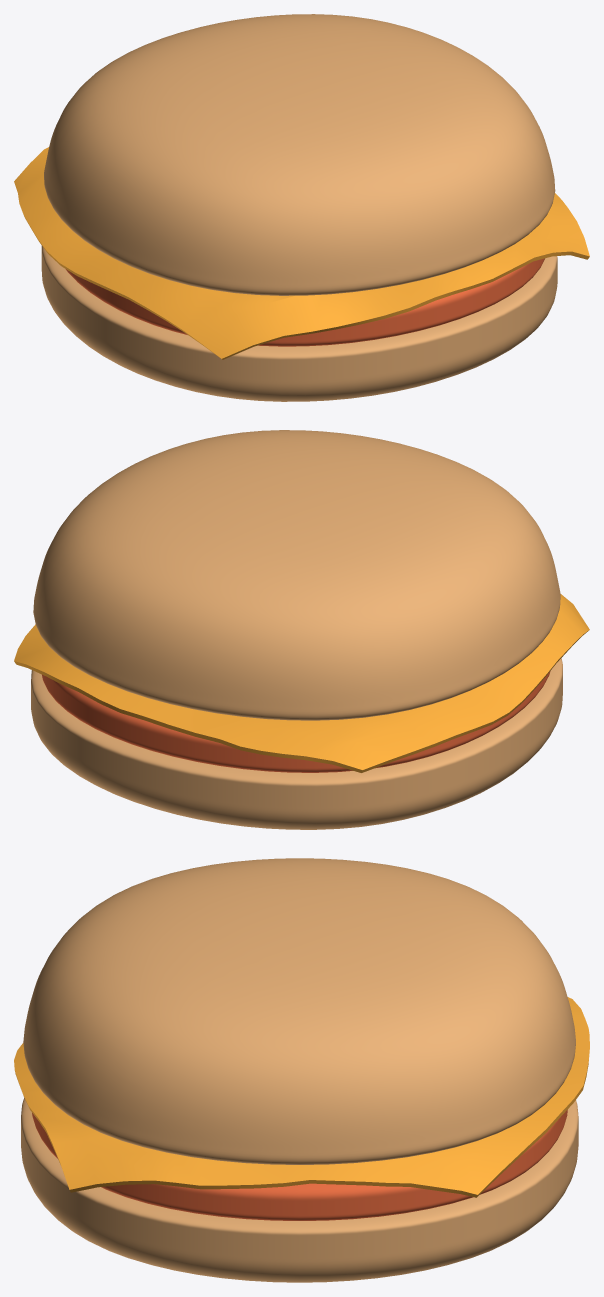
The model's file is hamburger.glb.
3 views of the same model, one above another, from view 1: azimuth 30°, elevation 25°; view 2: azimuth 150°, elevation 25°; view 3: azimuth 270°, elevation 25° (orthographic). The views are drawn at different scales.
Parts seen in each view (by area): view 1: Cube.002, Cube, Plane, Cube.001; view 2: Cube.002, Cube, Plane, Cube.001; view 3: Cube.002, Cube, Plane, Cube.001.
Part boxes in pixels (x1,y1,x2,y2): Cube.002: (44,14,555,295); Cube: (41,245,557,401); Plane: (14,147,589,359); Cube.001: (65,258,544,346); Cube.002: (33,430,560,720); Cube: (31,658,562,829); Plane: (14,594,589,772); Cube.001: (42,671,550,772); Cube.002: (23,858,575,1164); Cube: (21,1098,578,1282); Plane: (14,997,589,1197); Cube.001: (32,1109,567,1220).
Bounding box in the file's own units: 9.25 × 4.99 × 9.47.
